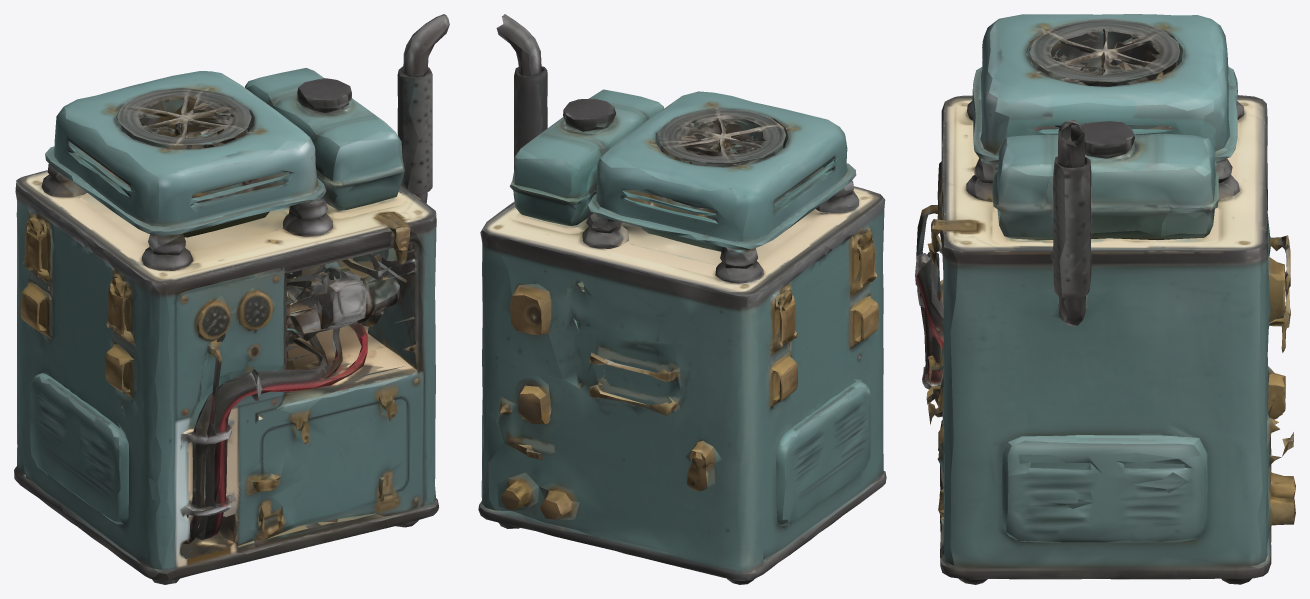
The model's file is generator.glb.
3 views of the same model, side by side, from view 1: azimuth 30°, elevation 25°; view 2: azimuth 150°, elevation 25°; view 3: azimuth 270°, elevation 25° (orthographic). The views are drawn at different scales.
Parts seen in each view (by area): view 1: generator; view 2: generator; view 3: generator.
Boxes of the visible parts, <box> form: generator: <box>14,14,449,584</box>; generator: <box>478,14,886,584</box>; generator: <box>915,14,1295,584</box>.
Size of the model in its own units: 1.75 by 2.11 by 1.45.
1 material, 1 textured.
